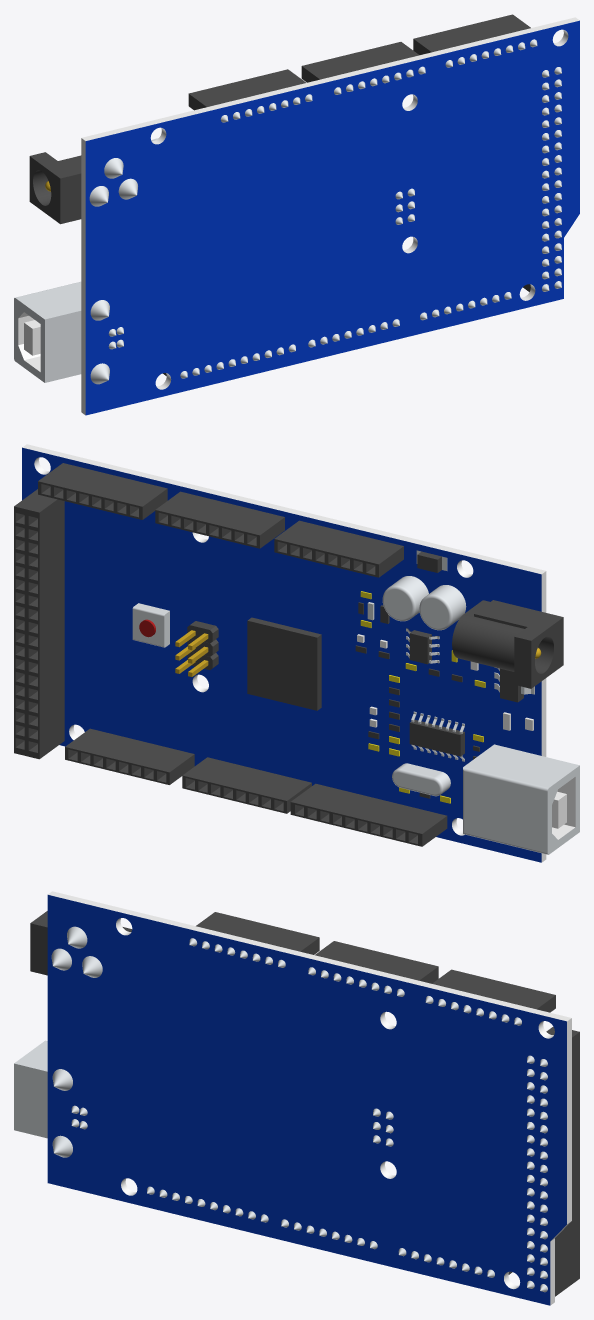
Rendered from Unnamed1-Arduino_Mega.gltf.
The picture shows the model from 3 angles, top to bottom: view 1: azimuth 30°, elevation 25°; view 2: azimuth 150°, elevation 25°; view 3: azimuth 330°, elevation 25°; orthographic projection. The views are drawn at different scales.
Parts seen in each view (by area): view 1: Arduino_Mega; view 2: Arduino_Mega; view 3: Arduino_Mega.
Boxes of the visible parts, left/top/right/bottom form: Arduino_Mega: left=14, top=14, right=579, bottom=415; Arduino_Mega: left=14, top=444, right=579, bottom=862; Arduino_Mega: left=14, top=891, right=579, bottom=1305.
Size of the model in its own units: 0.1093 by 0.054 by 0.0156.
